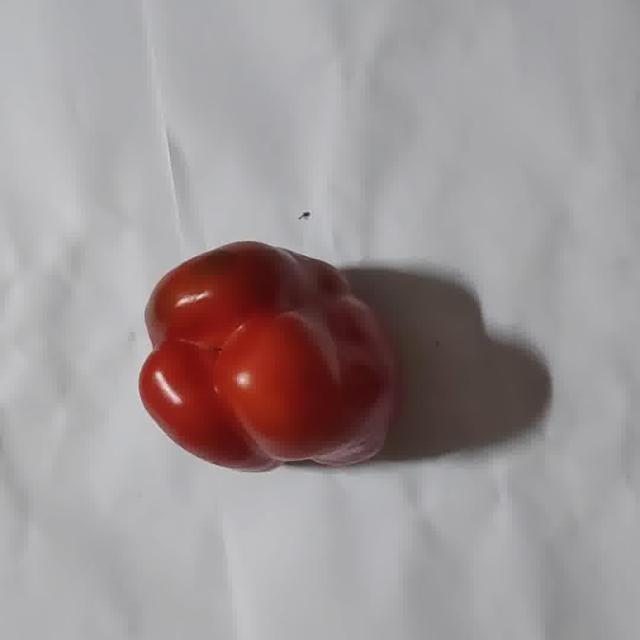Bell Pepper: (140, 244, 396, 471)
